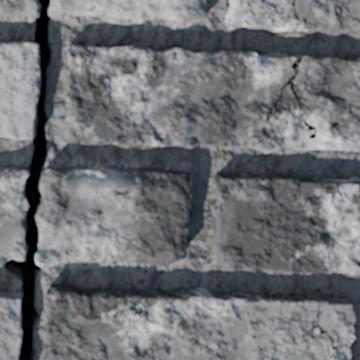brick: (66, 43, 359, 152), (46, 285, 354, 359), (211, 173, 359, 273), (226, 0, 359, 33), (0, 42, 39, 138), (0, 292, 21, 359), (332, 348, 350, 359)
broken_brick: (36, 166, 192, 268), (50, 0, 206, 23), (0, 165, 28, 266), (0, 0, 38, 17)
crack: (2, 0, 53, 359), (263, 55, 316, 140), (300, 300, 355, 359)
